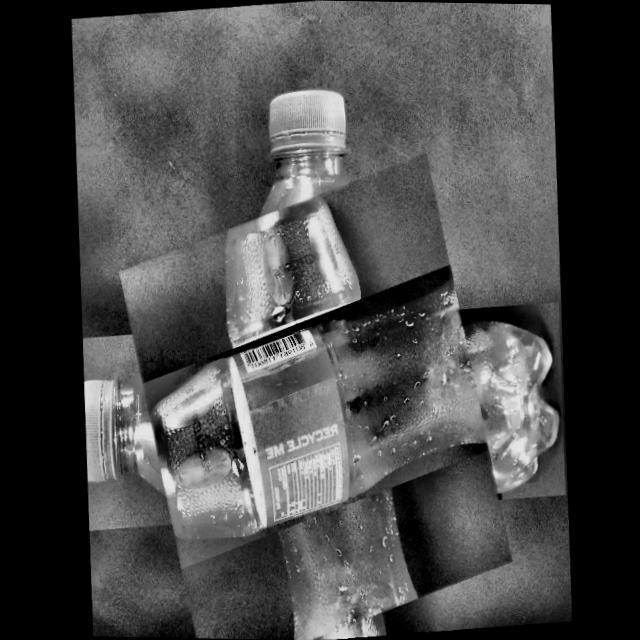Plastic-Bottle: (122, 164, 504, 640)
